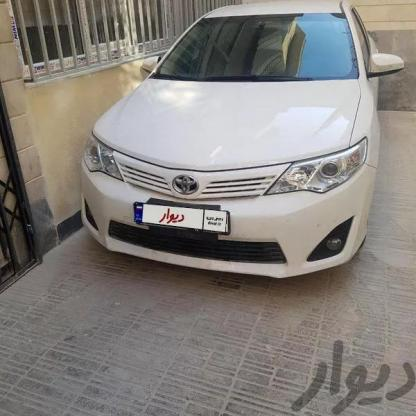Car: (80, 0, 394, 304)
